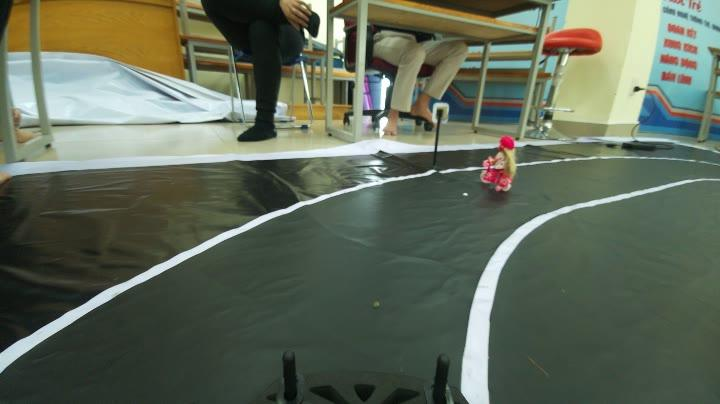pedestrian: (480, 128, 518, 192)
